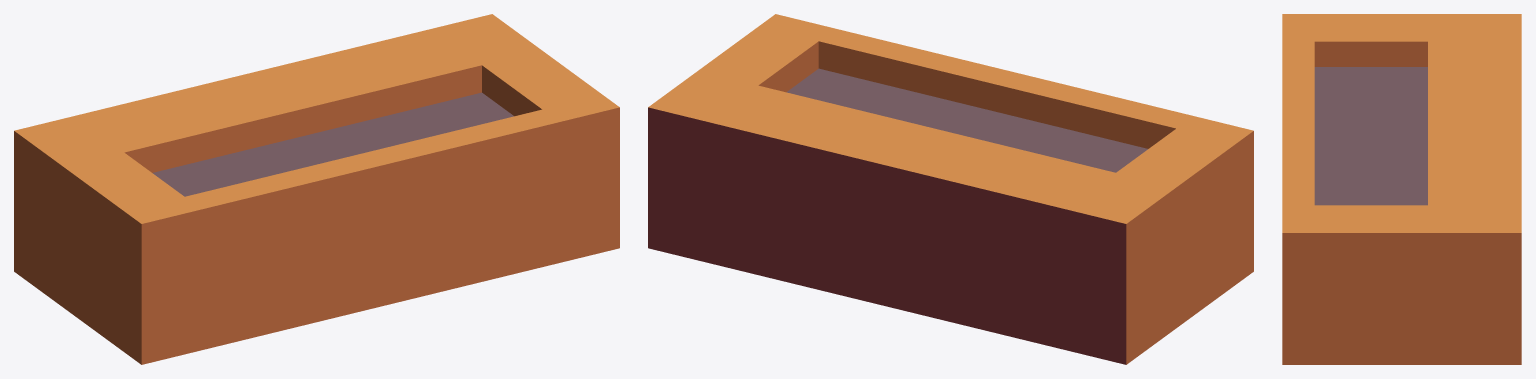
The model's file is PlanterBox_Orange01.glb.
3 renders of one model, left to right at view 1: azimuth 30°, elevation 25°; view 2: azimuth 150°, elevation 25°; view 3: azimuth 270°, elevation 25°, orthographic. The views are drawn at different scales.
Parts seen in each view (by area): view 1: PlanterBox_Orange01; view 2: PlanterBox_Orange01; view 3: PlanterBox_Orange01.
Boxes of the visible parts, x1,y1,x2,y2 form: PlanterBox_Orange01: [14, 14, 619, 364]; PlanterBox_Orange01: [648, 14, 1253, 364]; PlanterBox_Orange01: [1282, 14, 1521, 364].
Bounding box in the file's own units: 0.9727 × 0.2738 × 0.4494.
1 material, 1 textured.
